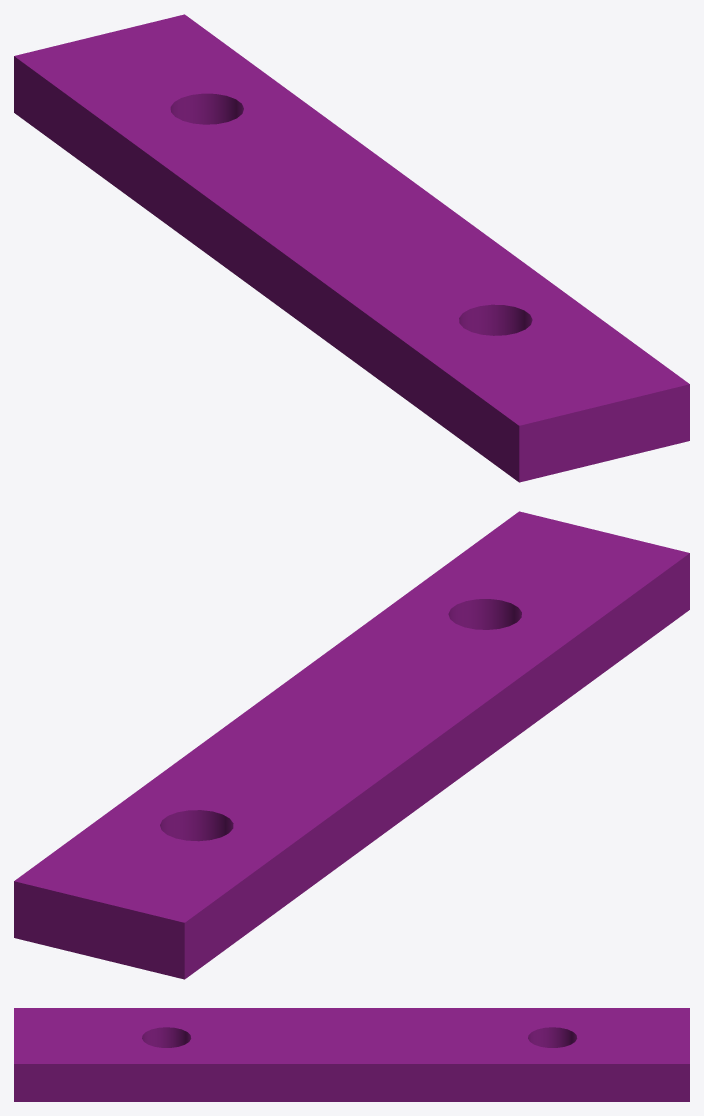
3 renders of one model, top to bottom at view 1: azimuth 30°, elevation 25°; view 2: azimuth 150°, elevation 25°; view 3: azimuth 270°, elevation 25°, orthographic. The views are drawn at different scales.
Parts seen in each view (by area): view 1: la; view 2: la; view 3: la.
Boxes of the visible parts, left/top/right/bottom form: la: left=14, top=14, right=689, bottom=482; la: left=14, top=511, right=689, bottom=979; la: left=14, top=1008, right=689, bottom=1101.
Bounding box in the file's own units: 0.0945 × 0.03 × 0.4843.
